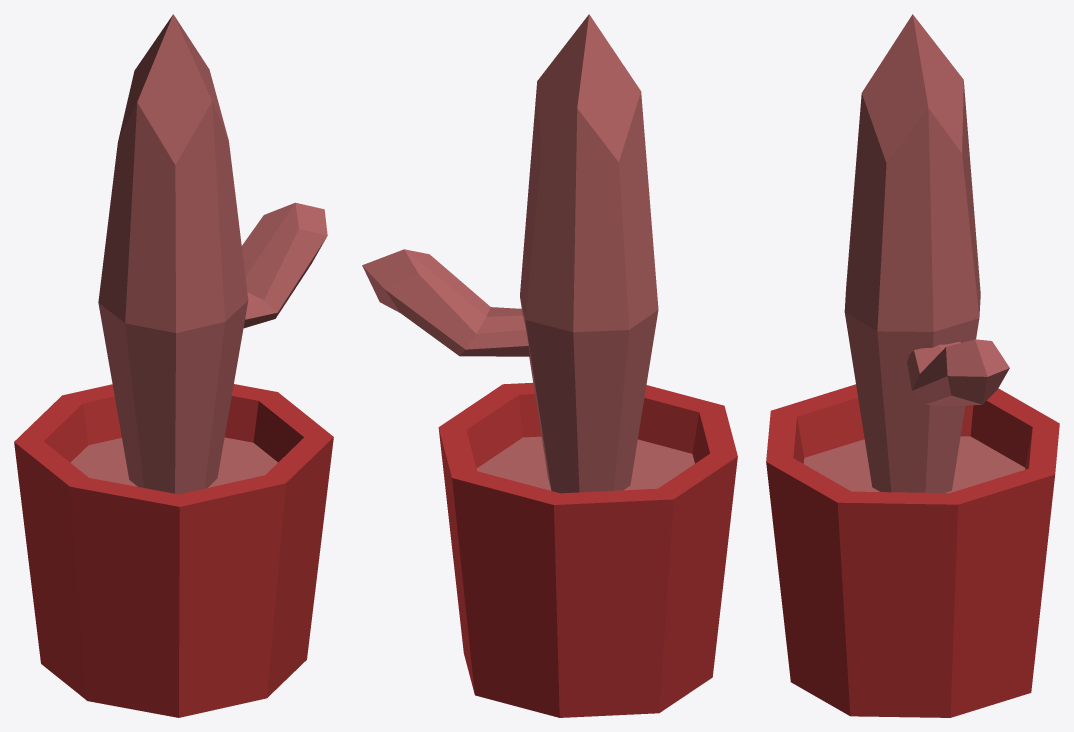
The model's file is Kitchen_Plant5.fbx.
The picture shows the model from 3 angles, left to right: view 1: azimuth 30°, elevation 25°; view 2: azimuth 150°, elevation 25°; view 3: azimuth 270°, elevation 25°; orthographic projection.
Visible parts, largest first — view 1: Kitchen_Plant5; view 2: Kitchen_Plant5; view 3: Kitchen_Plant5.
Boxes of the visible parts, x1,y1,x2,y2 form: Kitchen_Plant5: [14, 14, 333, 717]; Kitchen_Plant5: [362, 14, 737, 717]; Kitchen_Plant5: [766, 14, 1059, 717].
Bounding box in the file's own units: 29.36 × 57.86 × 23.63.
